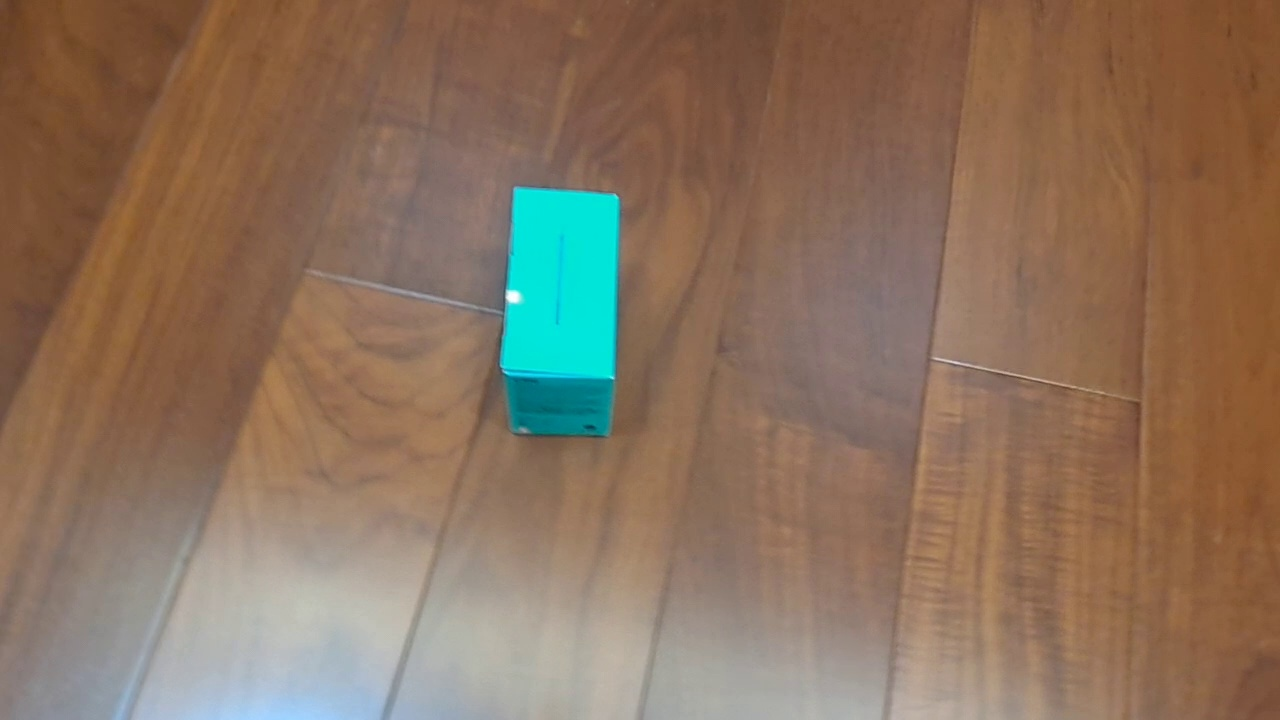webcam: (499, 185, 622, 438)
